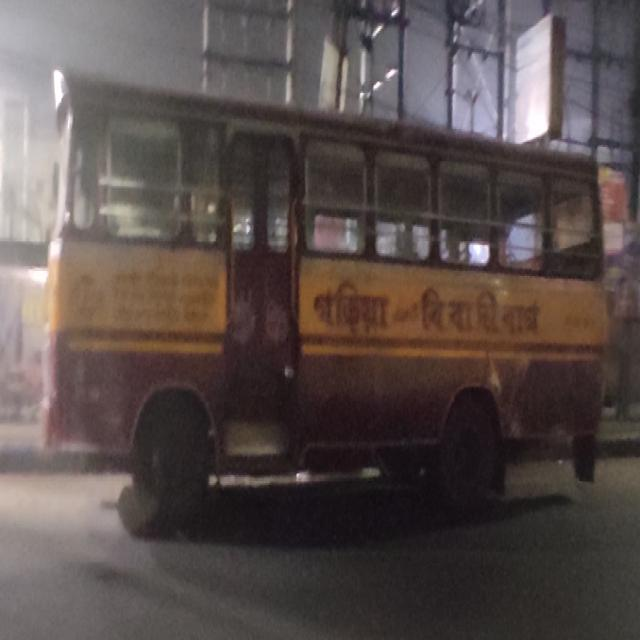bus: (40, 58, 610, 552)
